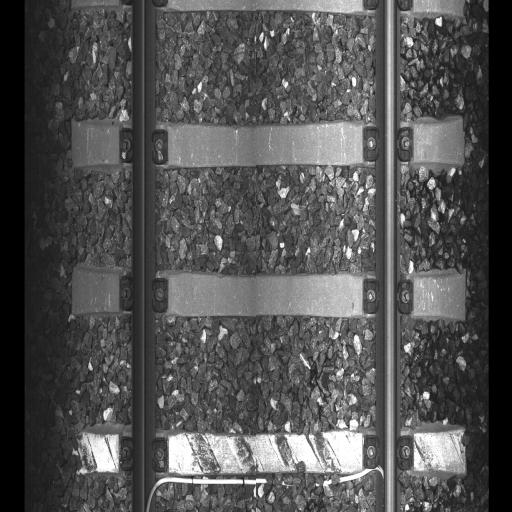clip: (364, 272, 412, 314), (120, 272, 166, 312), (120, 431, 166, 471), (363, 432, 412, 468), (364, 124, 411, 161), (120, 126, 166, 161)
sleeper: (73, 264, 464, 322), (72, 424, 466, 479), (72, 121, 464, 167), (71, 2, 461, 17)
